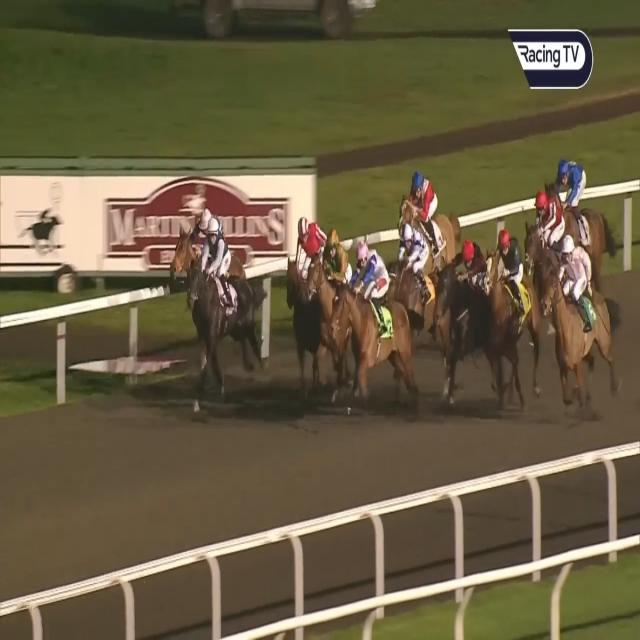horses-racing: (540, 232, 611, 437), (338, 241, 416, 393), (192, 223, 252, 393), (481, 230, 540, 386), (383, 225, 450, 343), (442, 241, 496, 366), (178, 202, 240, 303), (280, 216, 334, 328), (542, 155, 608, 245), (518, 192, 574, 270), (317, 230, 353, 334), (402, 170, 450, 232)
